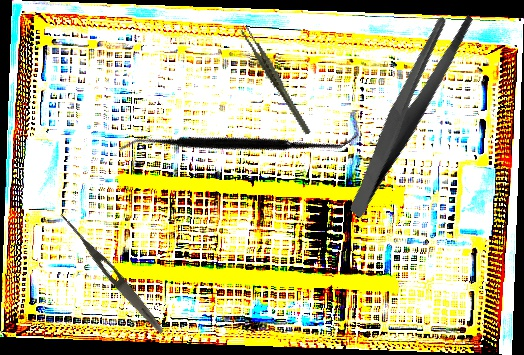Dressing Forceps: (302, 2, 513, 219), (55, 210, 168, 337)
Spatula Surgical: (118, 36, 360, 248)
Tissue Forceps: (238, 17, 313, 144)
